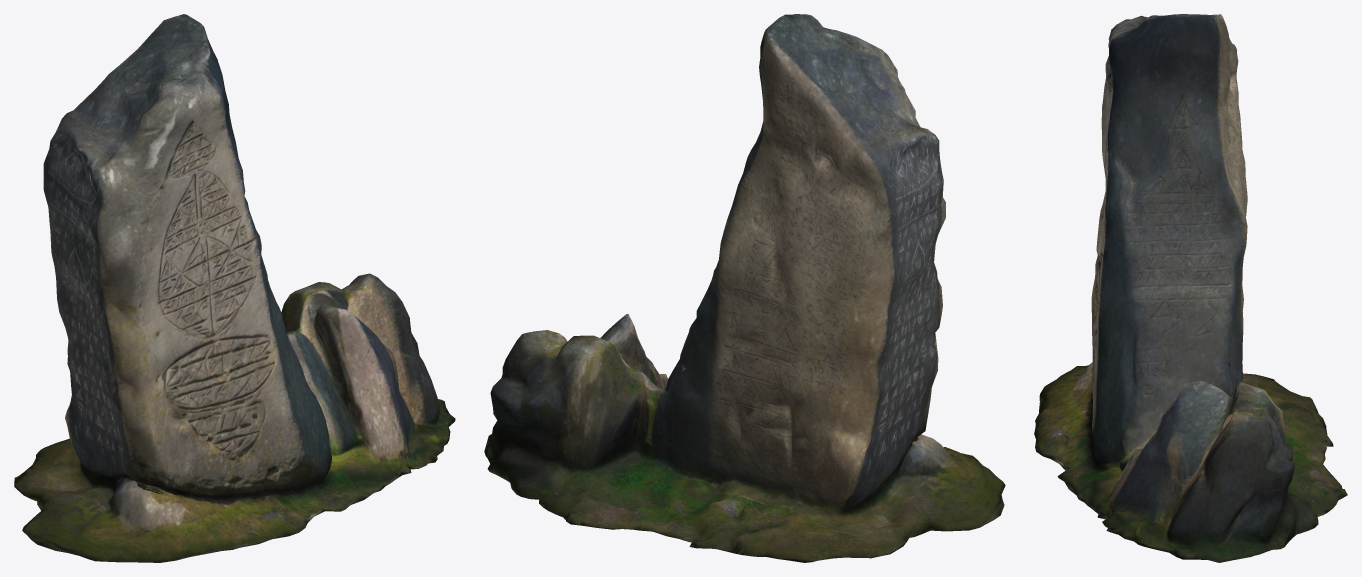
The model's file is Meshy_AI_A_big_menhir_with_anc_1016193427_texture.fbx.
3 views of the same model, side by side, from view 1: azimuth 30°, elevation 25°; view 2: azimuth 150°, elevation 25°; view 3: azimuth 270°, elevation 25° (orthographic). The views are drawn at different scales.
Visible parts, largest first — view 1: Mesh1; view 2: Mesh1; view 3: Mesh1.
Part boxes in pixels (bbox=[...]): Mesh1: bbox=[14, 14, 455, 562]; Mesh1: bbox=[484, 14, 1005, 562]; Mesh1: bbox=[1034, 14, 1347, 562].
Bounding box in the file's own units: 201 × 194 × 129.
1 material, 1 textured.
